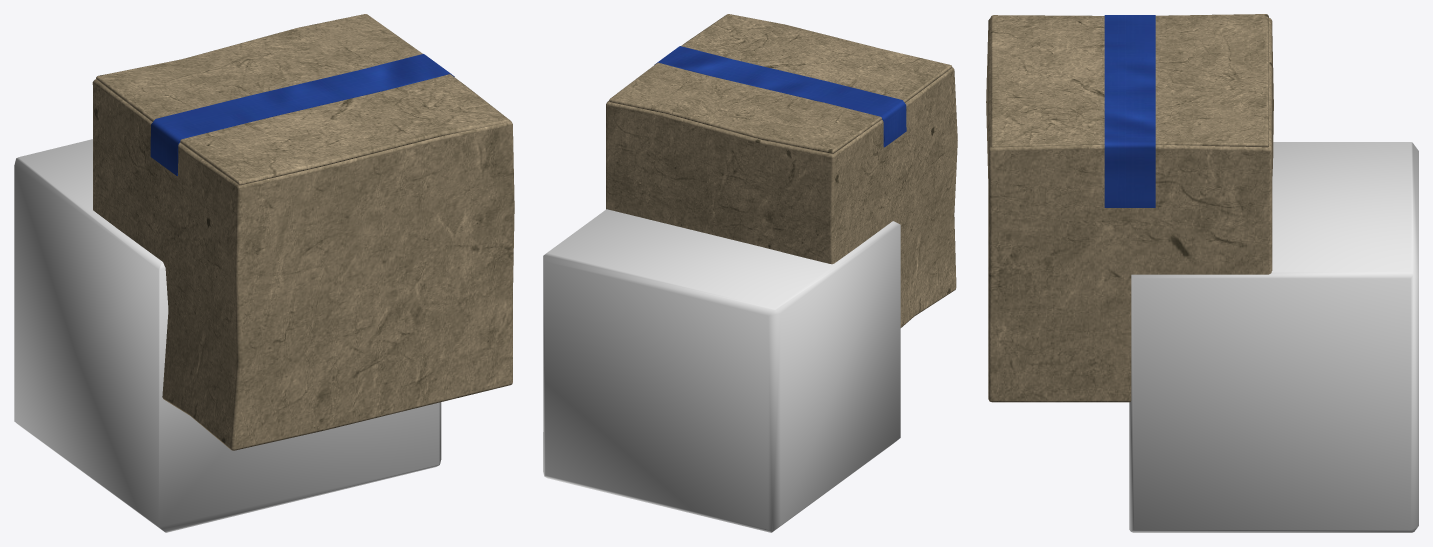
File: SM_Cardboard_03.fbx
3 views of the same model, side by side, from view 1: azimuth 30°, elevation 25°; view 2: azimuth 150°, elevation 25°; view 3: azimuth 270°, elevation 25° (orthographic). The views are drawn at different scales.
Parts seen in each view (by area): view 1: SM_Cardboard_03, SM_Cardboard_03_ConvexHulls; view 2: SM_Cardboard_03_ConvexHulls, SM_Cardboard_03; view 3: SM_Cardboard_03_ConvexHulls, SM_Cardboard_03.
Part boxes in pixels (<box>): SM_Cardboard_03: <box>92,14,514,450</box>; SM_Cardboard_03_ConvexHulls: <box>14,139,441,532</box>; SM_Cardboard_03_ConvexHulls: <box>543,209,900,532</box>; SM_Cardboard_03: <box>606,14,957,327</box>; SM_Cardboard_03_ConvexHulls: <box>1129,142,1418,532</box>; SM_Cardboard_03: <box>986,14,1273,402</box>.
Bounding box in the file's own units: 0.56 × 0.7625 × 0.7625.
